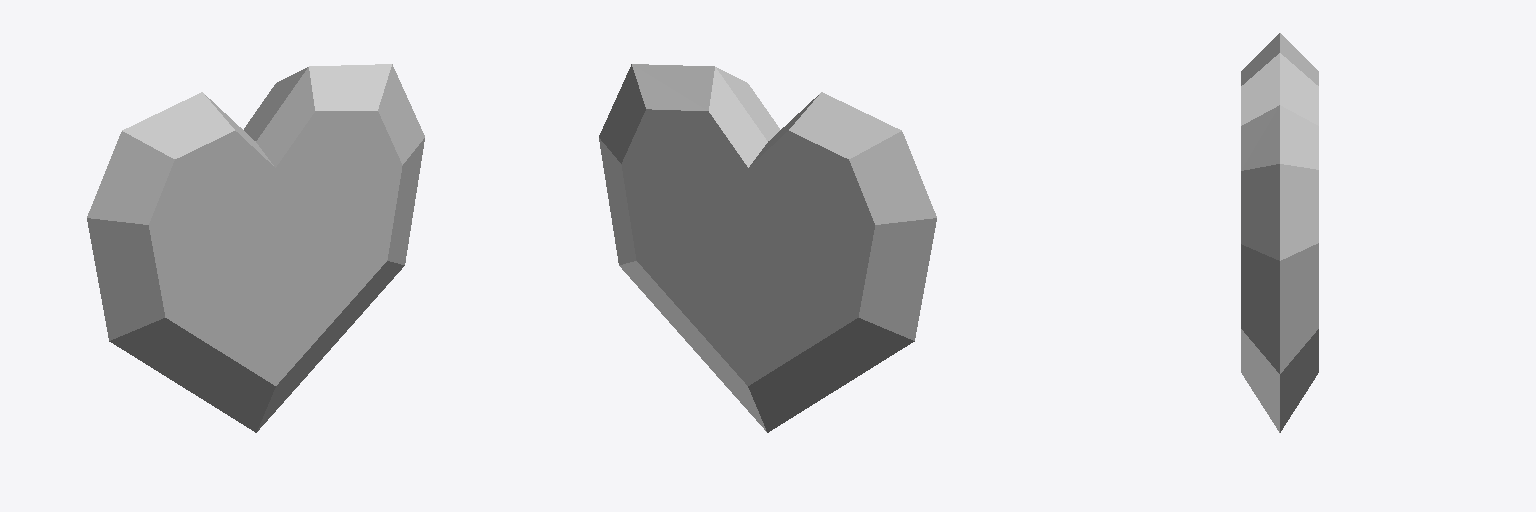
The model's file is heart.obj.
The picture shows the model from 3 angles: view 1: azimuth 30°, elevation 25°; view 2: azimuth 150°, elevation 25°; view 3: azimuth 270°, elevation 25°; orthographic projection.
Visible parts, largest first — view 1: Heart_Plane.002; view 2: Heart_Plane.002; view 3: Heart_Plane.002.
Part boxes in pixels (bbox=[...]): Heart_Plane.002: bbox=[87, 64, 424, 432]; Heart_Plane.002: bbox=[599, 64, 936, 432]; Heart_Plane.002: bbox=[1241, 33, 1318, 432].
Size of the model in its own units: 0.5 by 0.5 by 0.1.